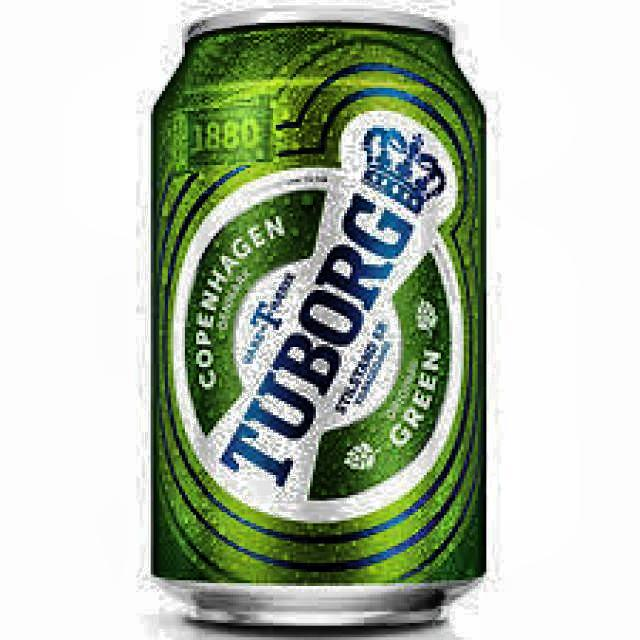can: (146, 6, 498, 640)
